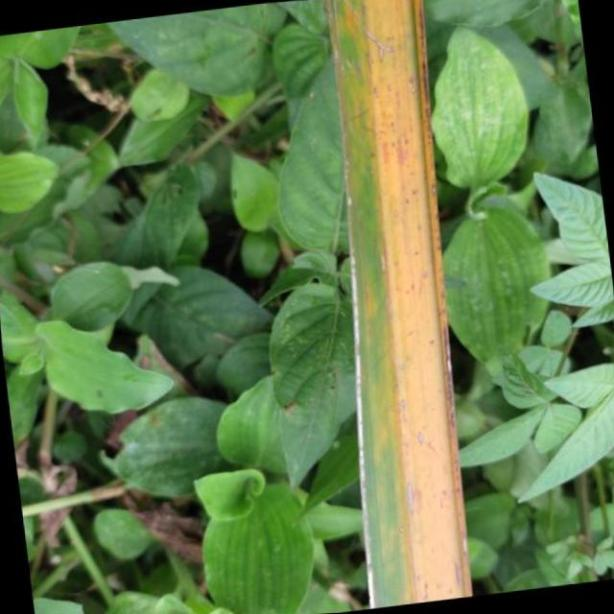Megnesium: (322, 0, 473, 605)
